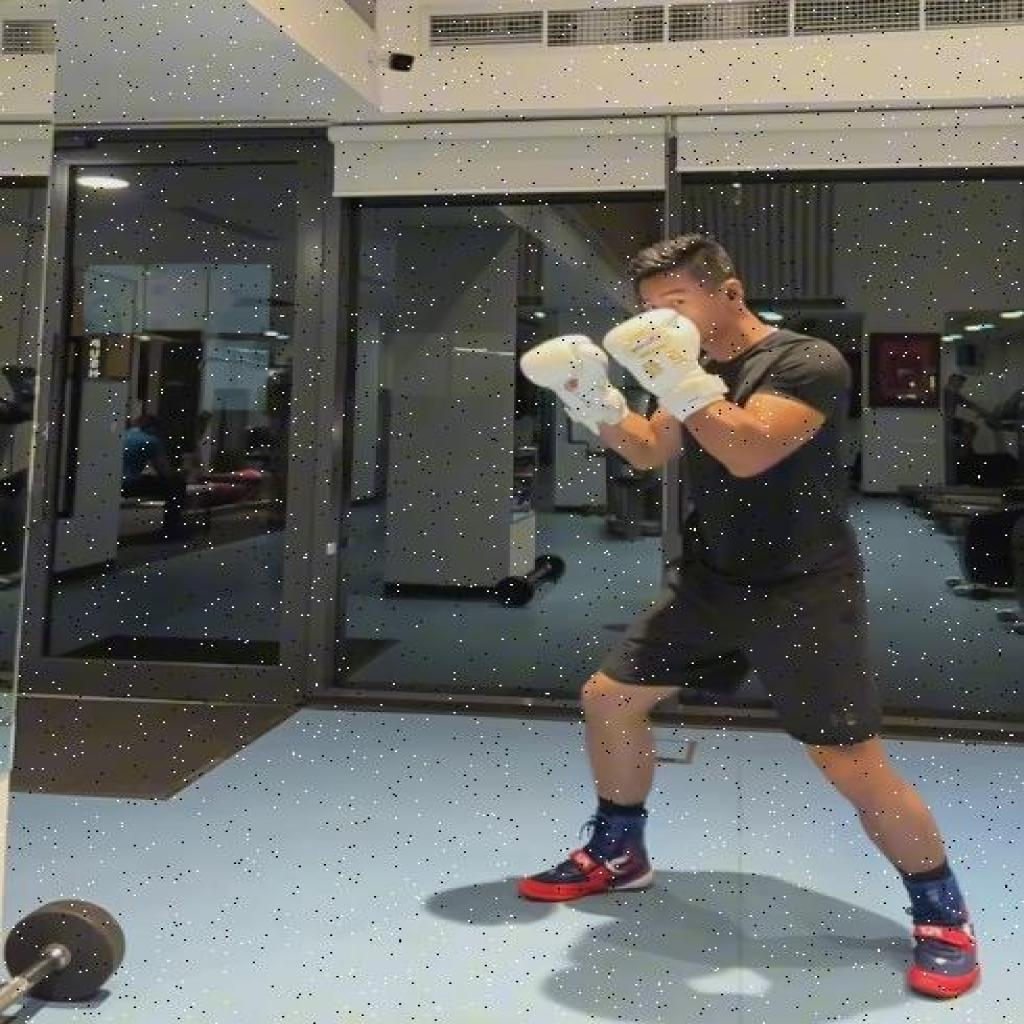no punch: (500, 230, 986, 1016)
